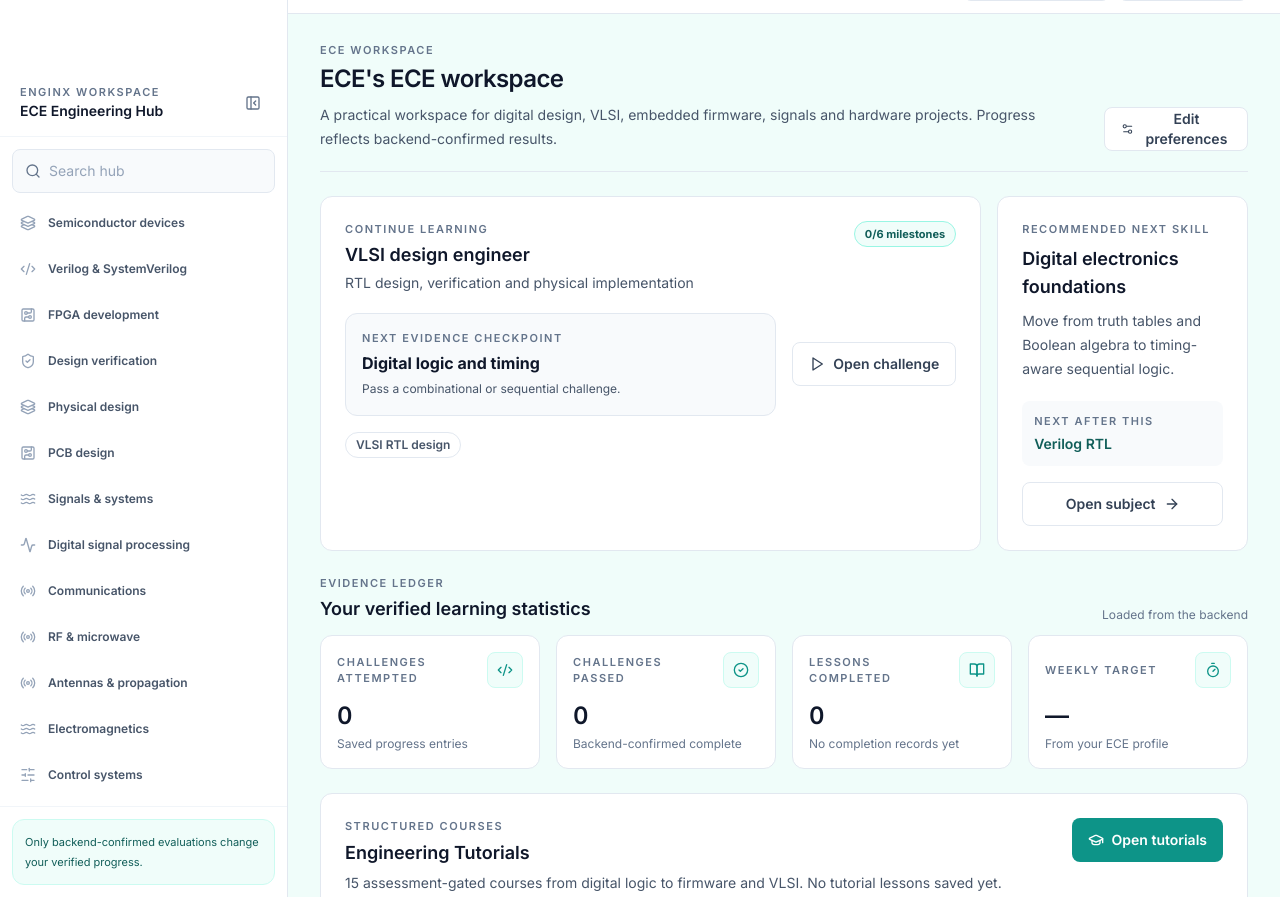
ECE Engineering Hub › opens the integrated Signals & Systems lab with an honest runtime boundary
(page scrolled)
Click the button "Signals & systems": (144, 499) [8,477,279,521]
(page scrolled)
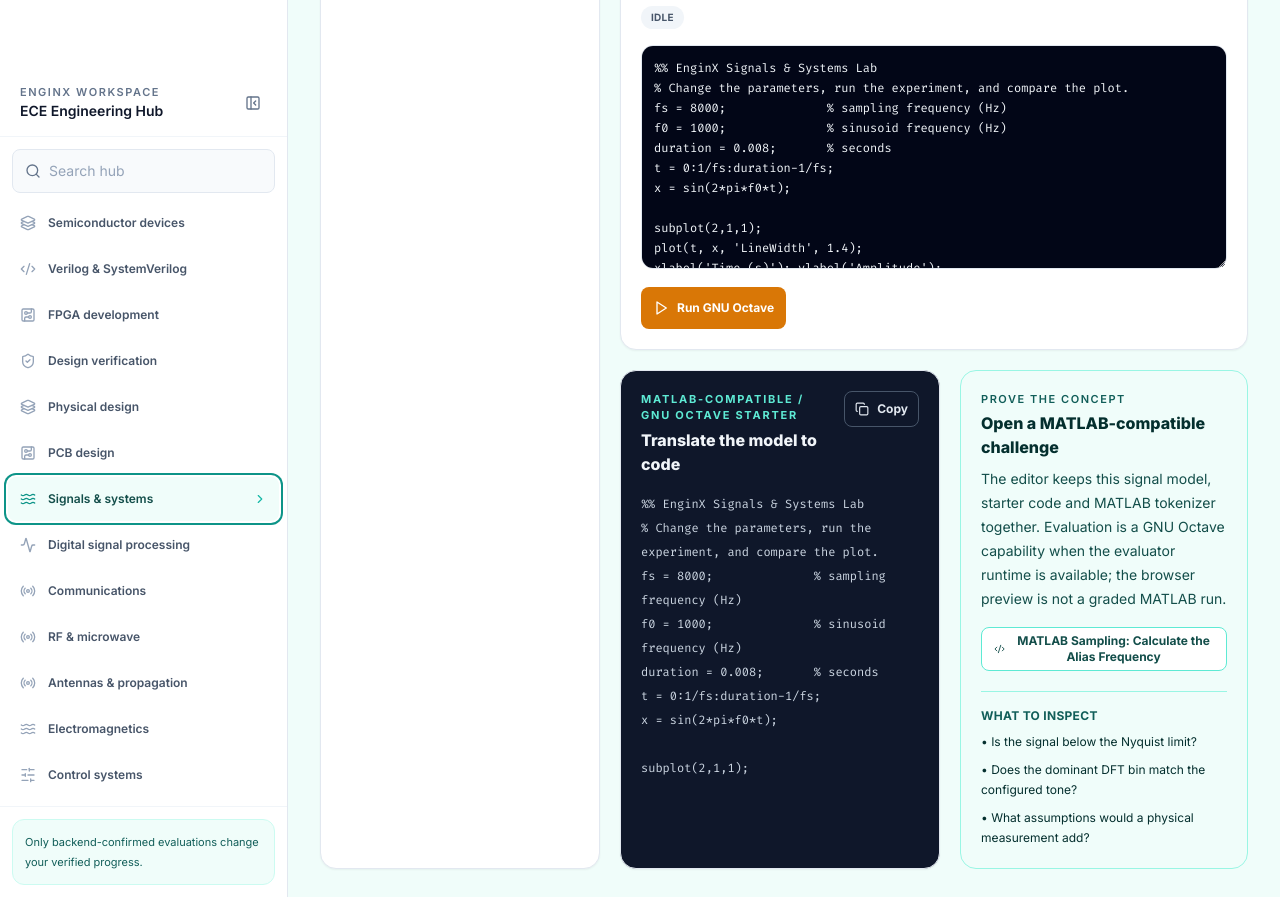
Now the button "MATLAB Sampling: Calculate the Alias Frequency" is shown, box [981,627,1227,671]
